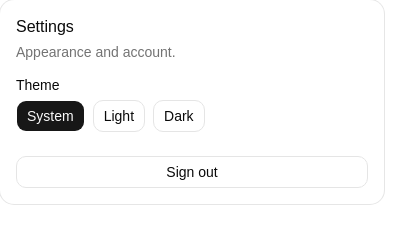
it: SettingsScreen › shows an error message when persisting the theme fails
Click the radio button labelled "Light" at (119, 116), box top-left (93, 100), bottom-right (145, 132)
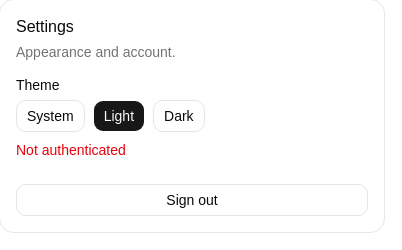
expect the message reads "Not authenticated": met, box top-left (16, 142), bottom-right (126, 158)
